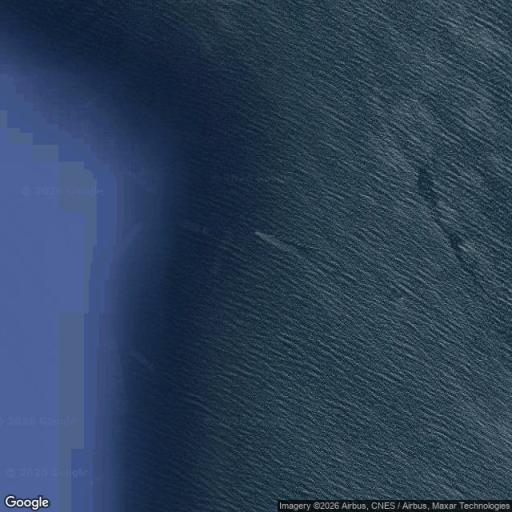ship: (253, 231, 297, 255)
